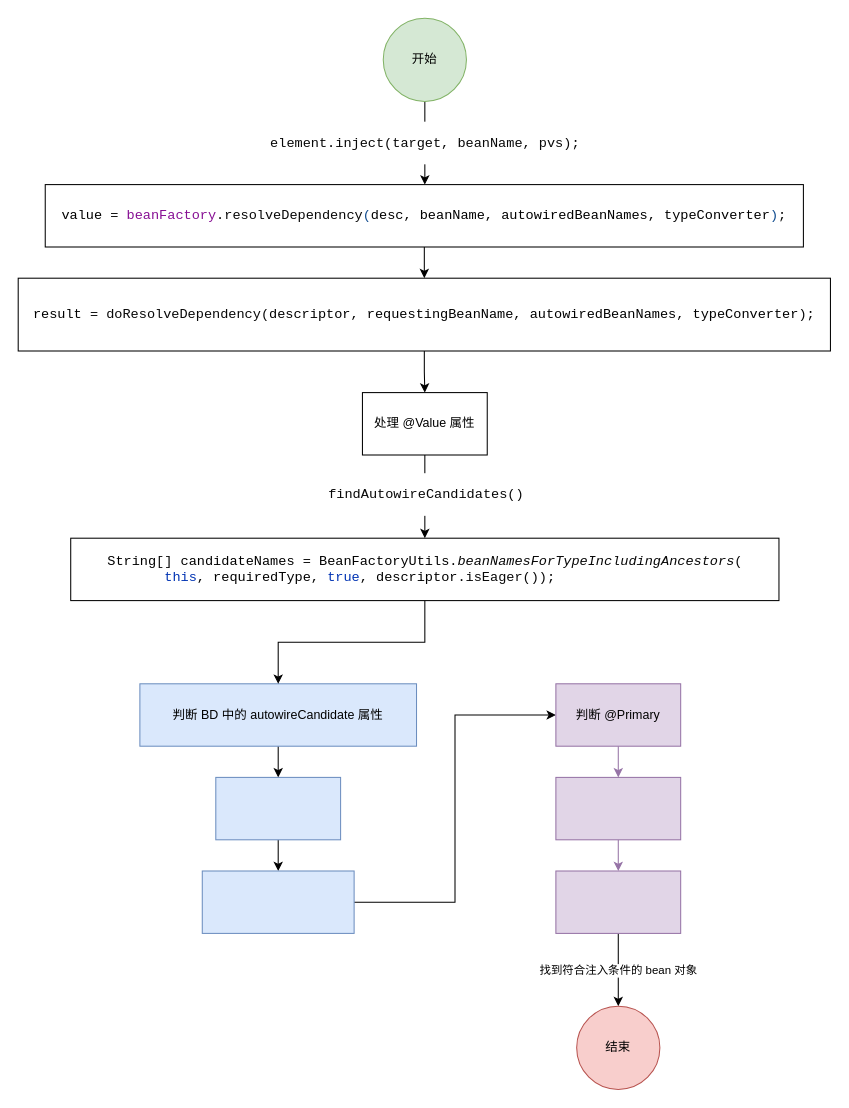
Some shapes in this 849 by 1108 pixel diagram are drawn without their labels. The shapes that lost their labels are listed below. From the top down, each one's centre as x and y in pixels, then its label:
At (x=278, y=808): "判断范型".
At (x=618, y=808): "判断 @Priority".
At (x=277, y=901): "判断 @Qualifier 注解".
At (x=618, y=901): "比较 beanName".
